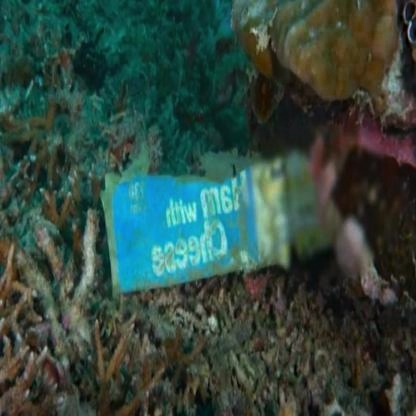plastic: (88, 159, 332, 296)
